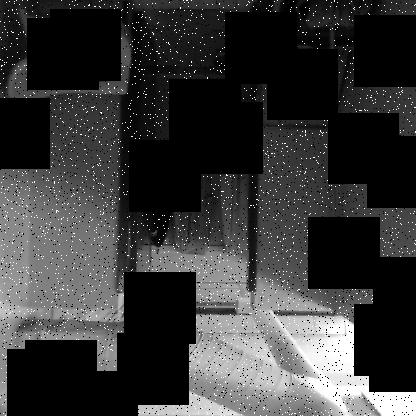Porte: (111, 0, 263, 294)
